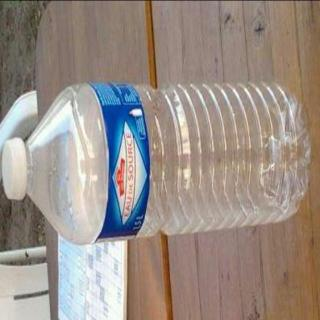Anorganik: (0, 84, 312, 242)
